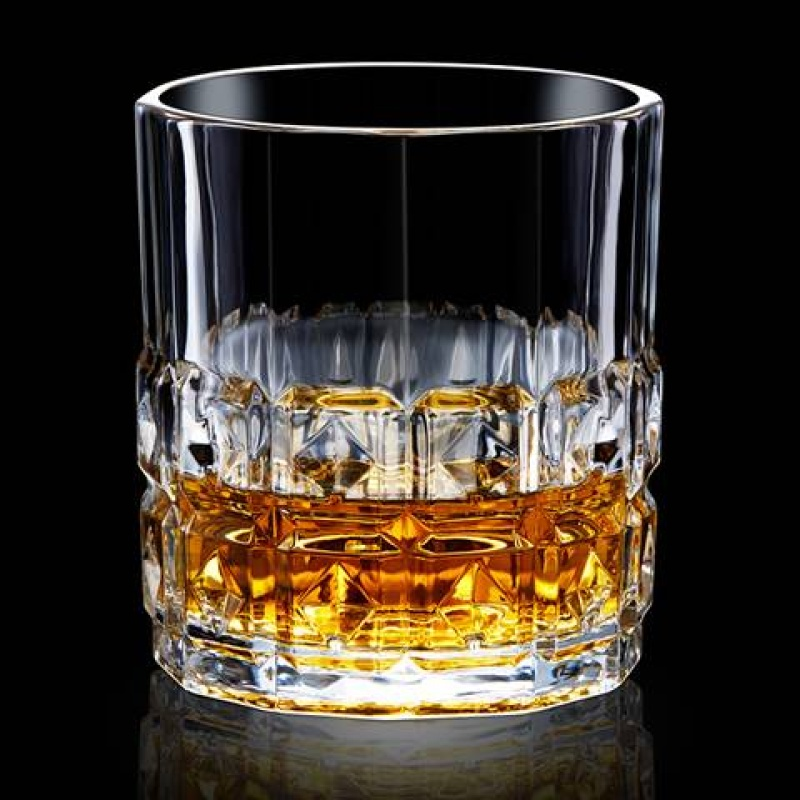whiskey: (137, 75, 697, 704)
